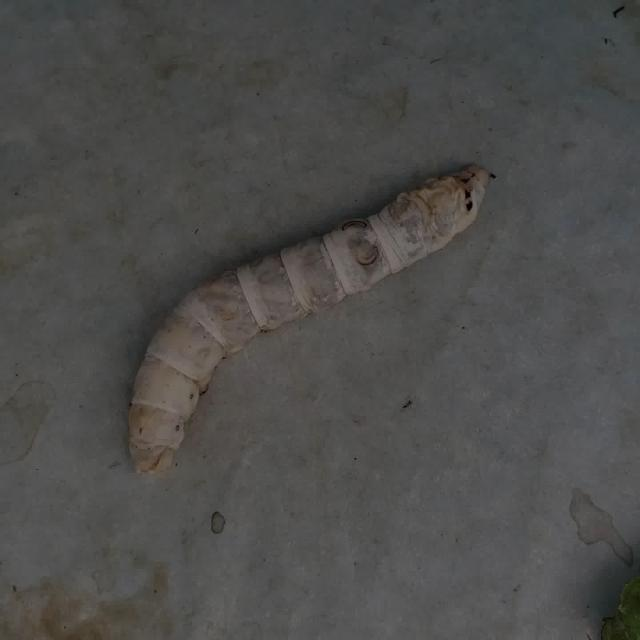Grasserie: (107, 152, 514, 484)
